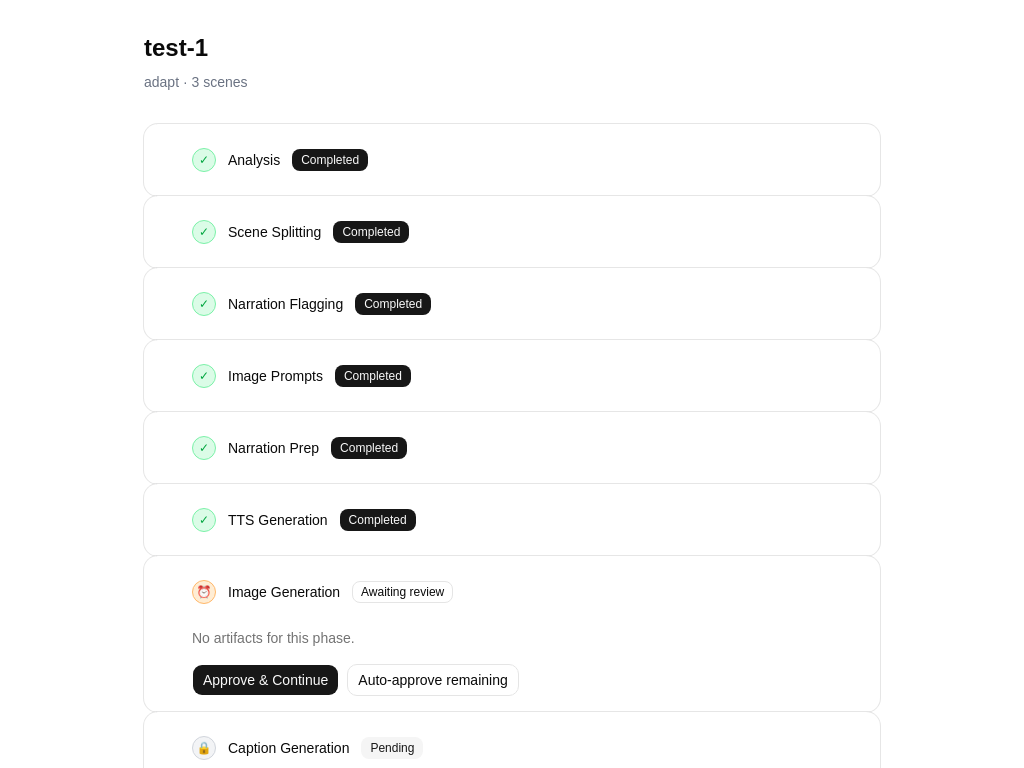
Test: UnifiedProjectPage - TTS integration › renders TtsReviewPanel for completed tts_generation when expanded
Check: the text "TTS Generation" is shown, box [228,510,328,530]
tts_generation is completed and collapsed by default. Expand it.
Click the button with aria-label "tts generation phase, completed" at x=278, y=520, box [176,500,880,540]
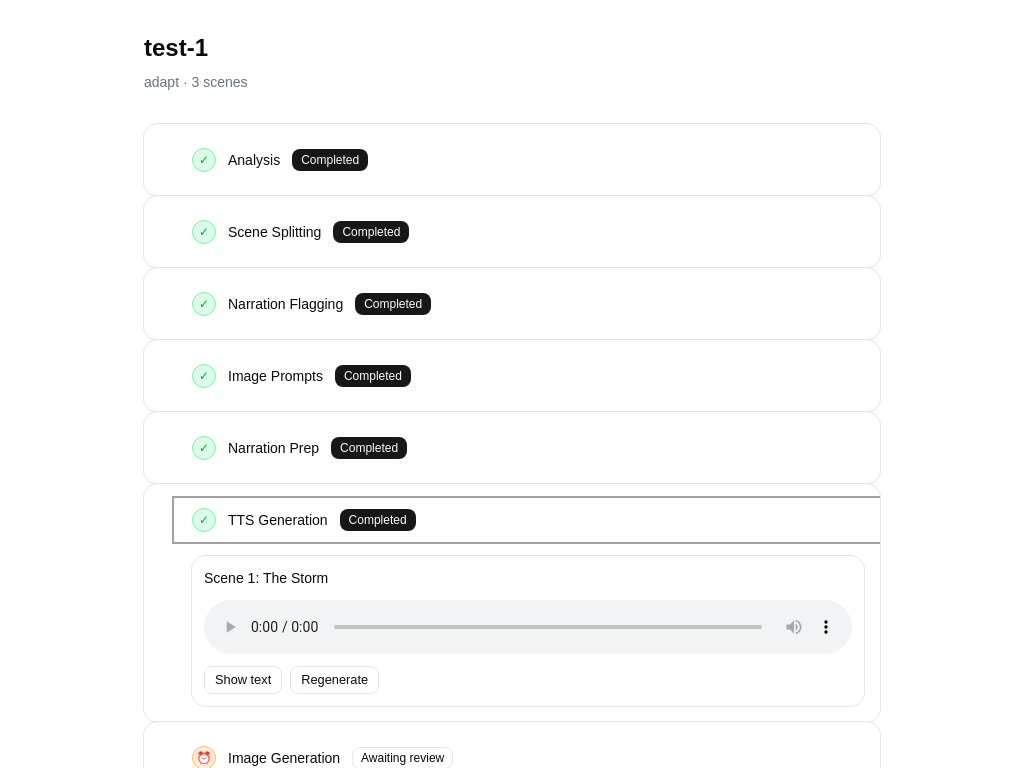
Check: the heading "Scene 1: The Storm" is shown, box [204,570,328,586]
